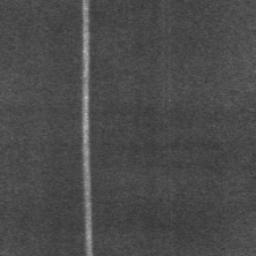Bright scratch: (82, 0, 93, 256)
